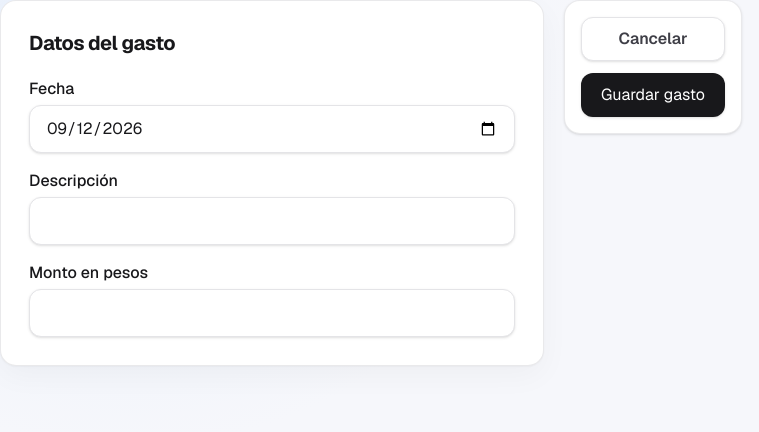
Test: ExpenseForm › requires a description and a positive whole-peso amount
Type "0" into the field labelled "Monto en pesos" at [272, 313], box [29,289,515,337]
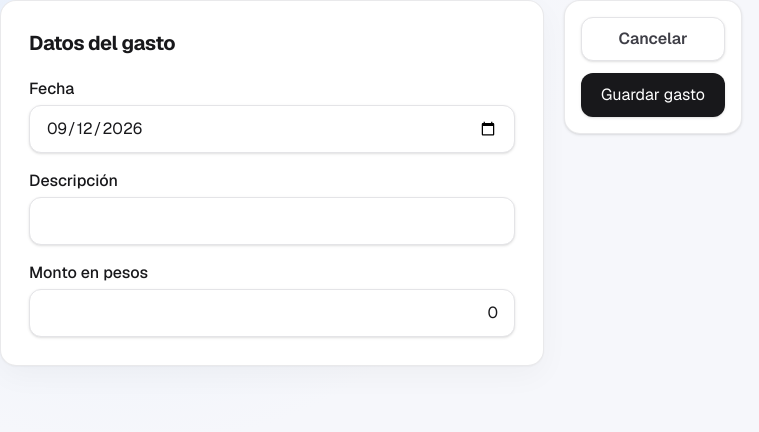
Click the button "Guardar gasto" at [653, 95], box [581,73,725,117]
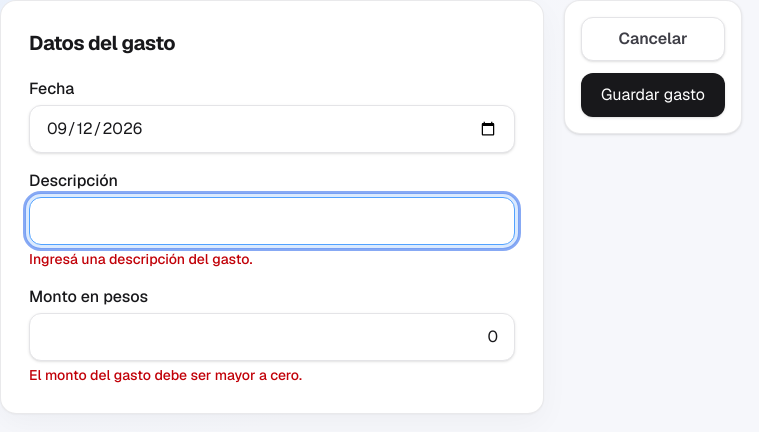
Expected: the text "Ingresá una descripción del gasto." is shown, [29,250,252,268]
Expected: the text "El monto del gasto debe ser mayor a cero." is shown, [29,366,302,384]
